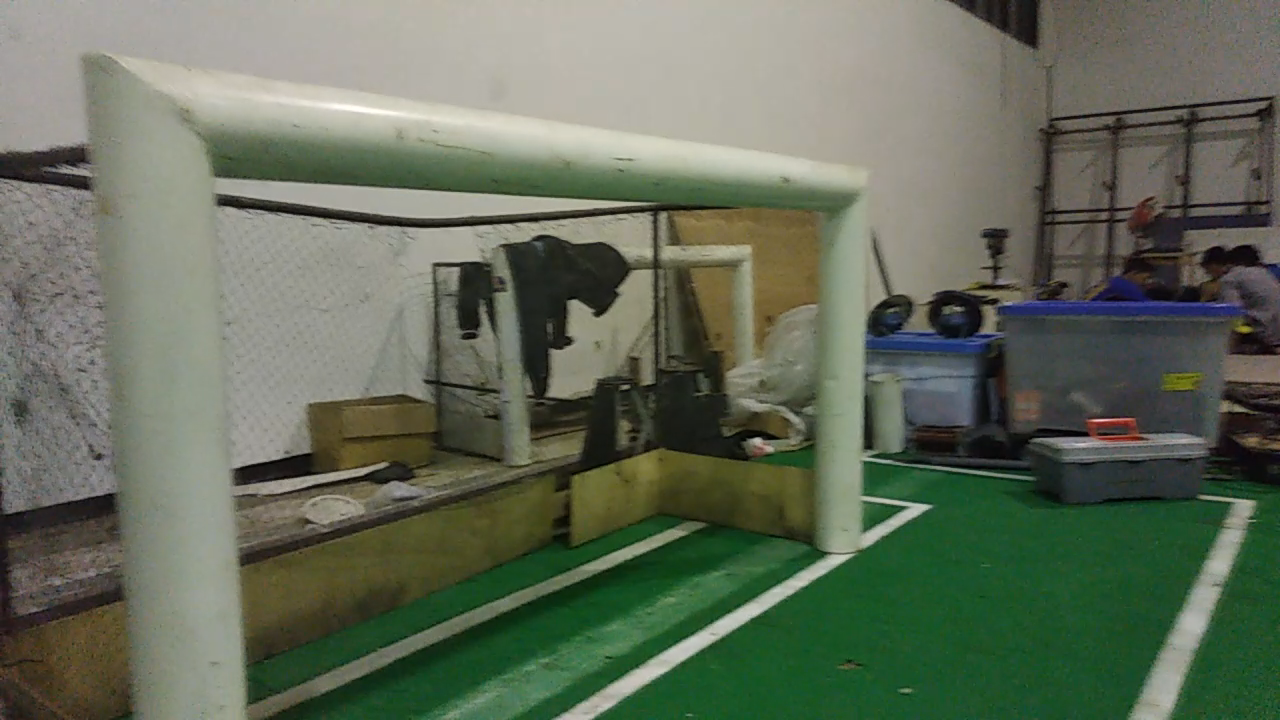gawang: (66, 42, 891, 713)
